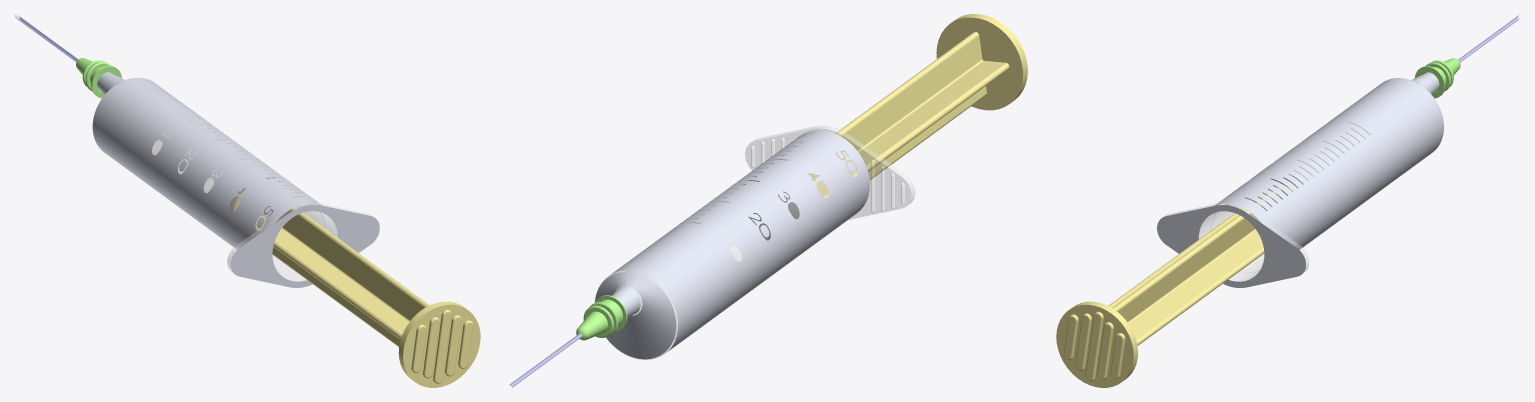
Rendered from syringe.gltf.
3 renders of one model, left to right at view 1: azimuth 30°, elevation 25°; view 2: azimuth 150°, elevation 25°; view 3: azimuth 330°, elevation 25°, orthographic. The views are drawn at different scales.
Parts seen in each view (by area): view 1: Vaccine Body-1, Vaccine Plunger-1, Vaccine last one-1; view 2: Vaccine Body-1, Vaccine Plunger-1, Vaccine last one-1; view 3: Vaccine Body-1, Vaccine Plunger-1, Vaccine last one-1.
Part boxes in pixels (bbox=[...]): Vaccine Body-1: bbox=[92, 72, 379, 287]; Vaccine Plunger-1: bbox=[231, 190, 480, 387]; Vaccine last one-1: bbox=[14, 14, 121, 98]; Vaccine Body-1: bbox=[595, 126, 914, 359]; Vaccine Plunger-1: bbox=[808, 14, 1027, 198]; Vaccine last one-1: bbox=[509, 295, 627, 387]; Vaccine Body-1: bbox=[1157, 72, 1443, 287]; Vaccine Plunger-1: bbox=[1056, 185, 1292, 387]; Vaccine last one-1: bbox=[1415, 14, 1520, 98].
Bounding box in the file's own units: 0.0499 × 0.026 × 0.2483.
